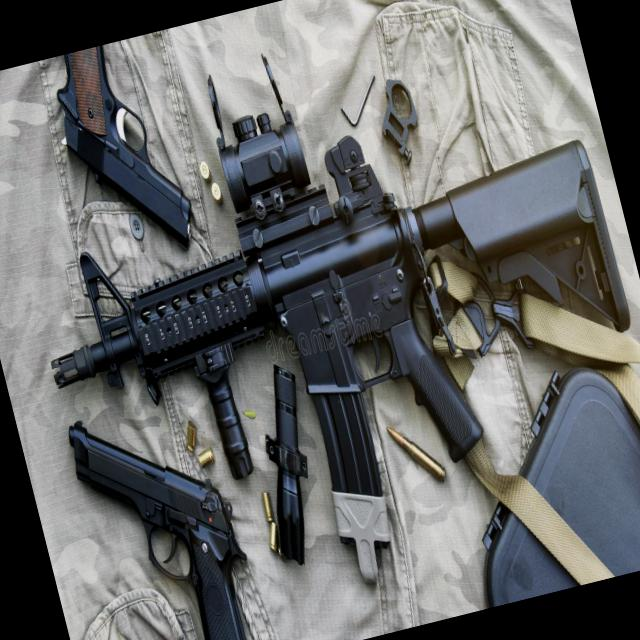handgun: (55, 387, 280, 639), (18, 33, 210, 272)
long weapon: (0, 34, 639, 556)
